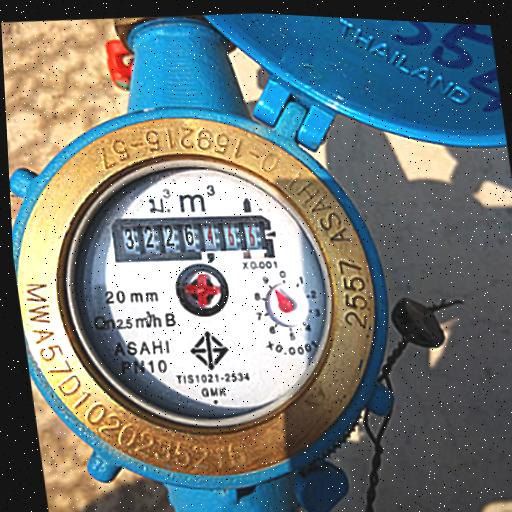2: (140, 224, 159, 254), (161, 224, 180, 254)
3: (120, 225, 139, 255)
4: (201, 222, 220, 251)
6: (242, 220, 261, 250), (221, 221, 240, 249), (181, 222, 199, 251)
border_water_meter_number: (108, 205, 275, 273)
